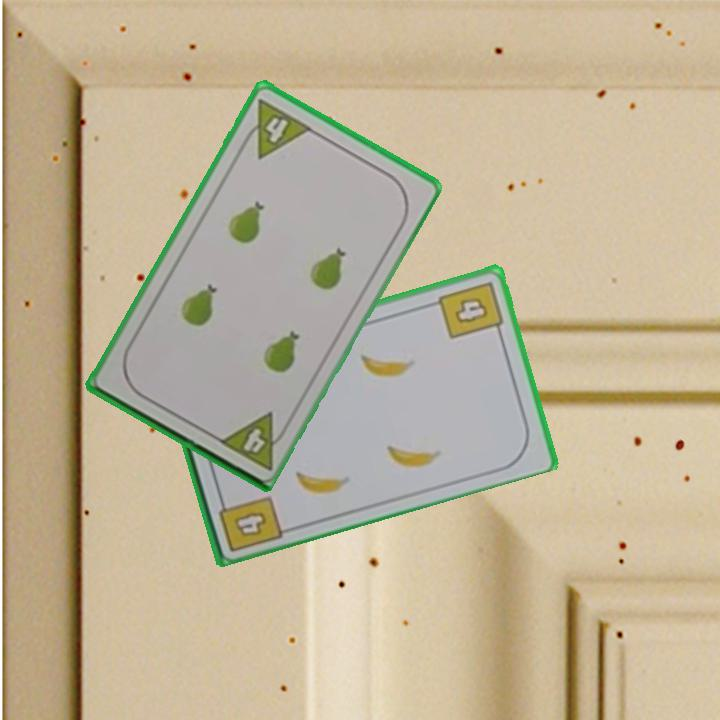4b: (435, 277, 506, 342), (214, 490, 285, 555)
4p: (236, 95, 314, 162), (214, 408, 292, 473)
